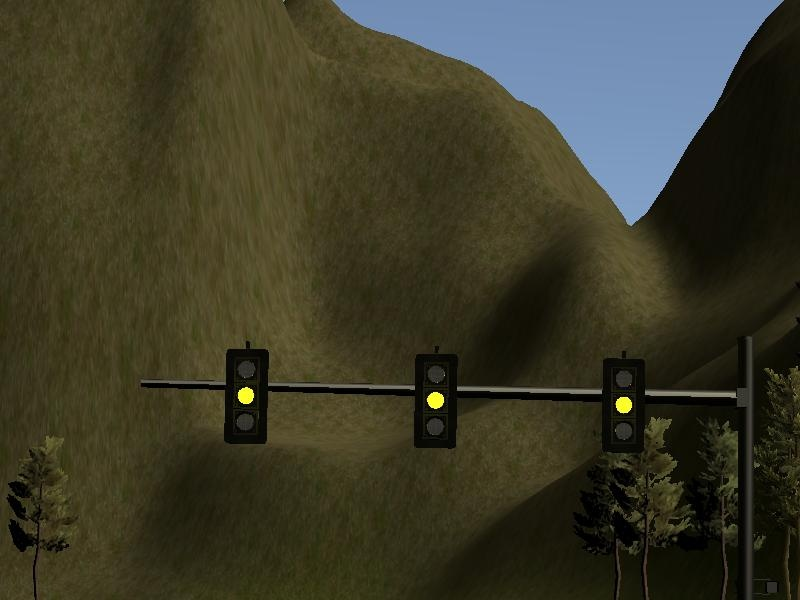yellow: (593, 345, 654, 459), (407, 343, 462, 454), (219, 340, 273, 450)
